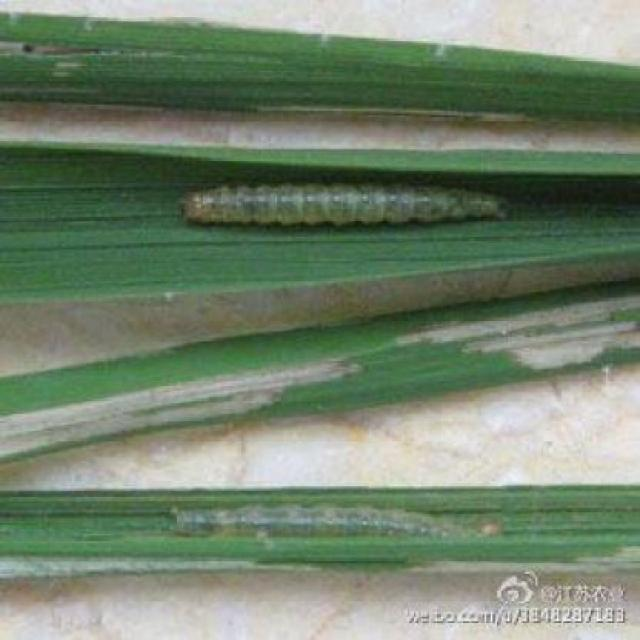leaf-folder: (137, 464, 545, 581), (146, 144, 532, 264)
